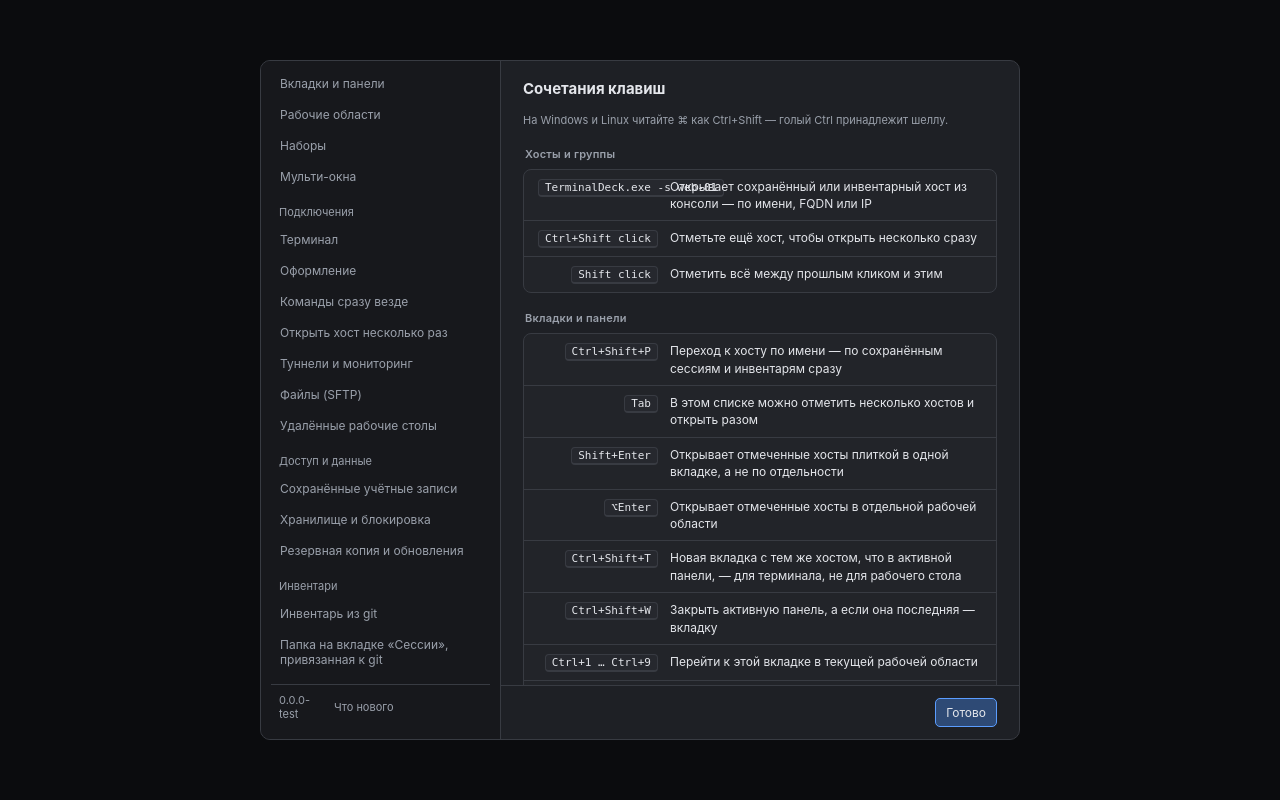
Test: the examples in the help › leaves them alone in Russian, where the prose around them is translated
(page scrolled)
Click the button "Инвентарь из git". click: x=380, y=614
box: [271, 599, 490, 628]
(page scrolled)
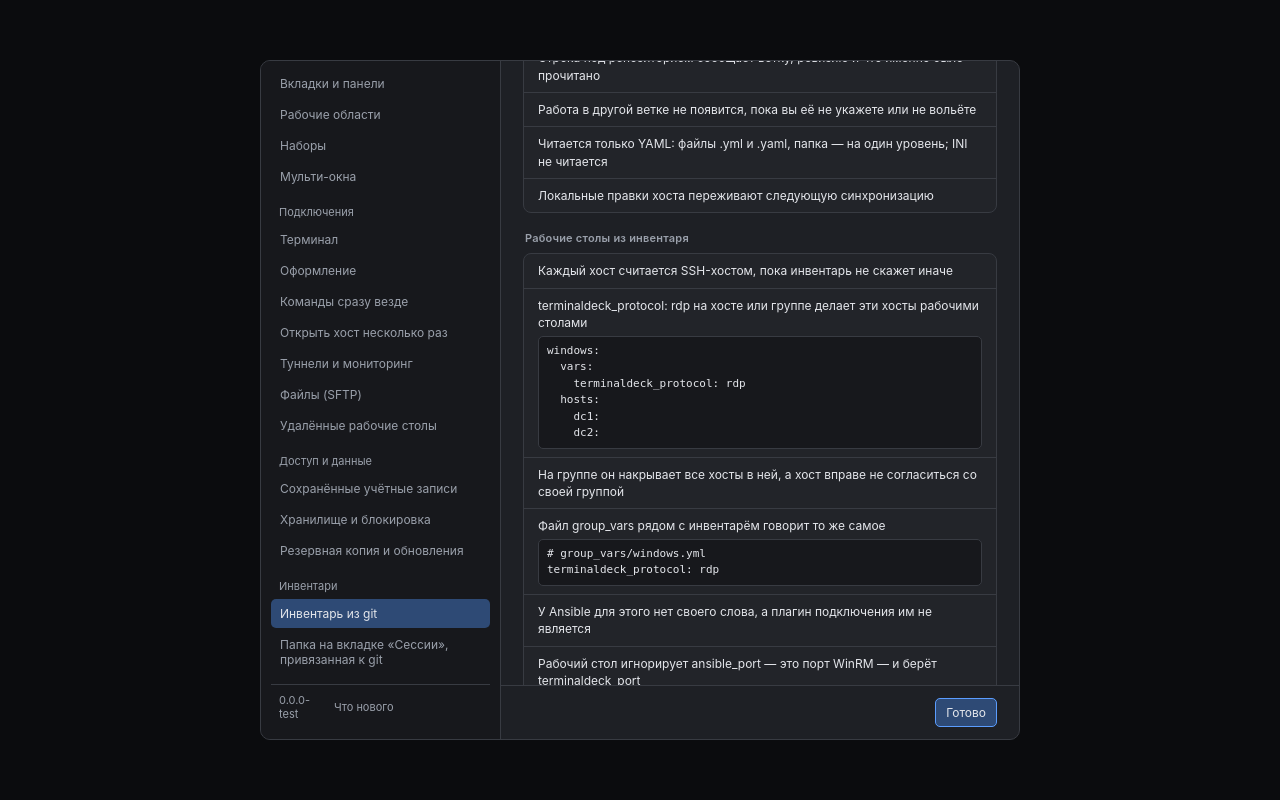
Result: the text "terminaldeck_protocol: rdp" is shown at [538, 298, 979, 330]
